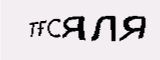А: (39, 20, 55, 40)
О: (89, 9, 110, 34)
Р: (64, 13, 78, 38)
Х: (53, 17, 66, 38)
Э: (74, 10, 89, 39)
